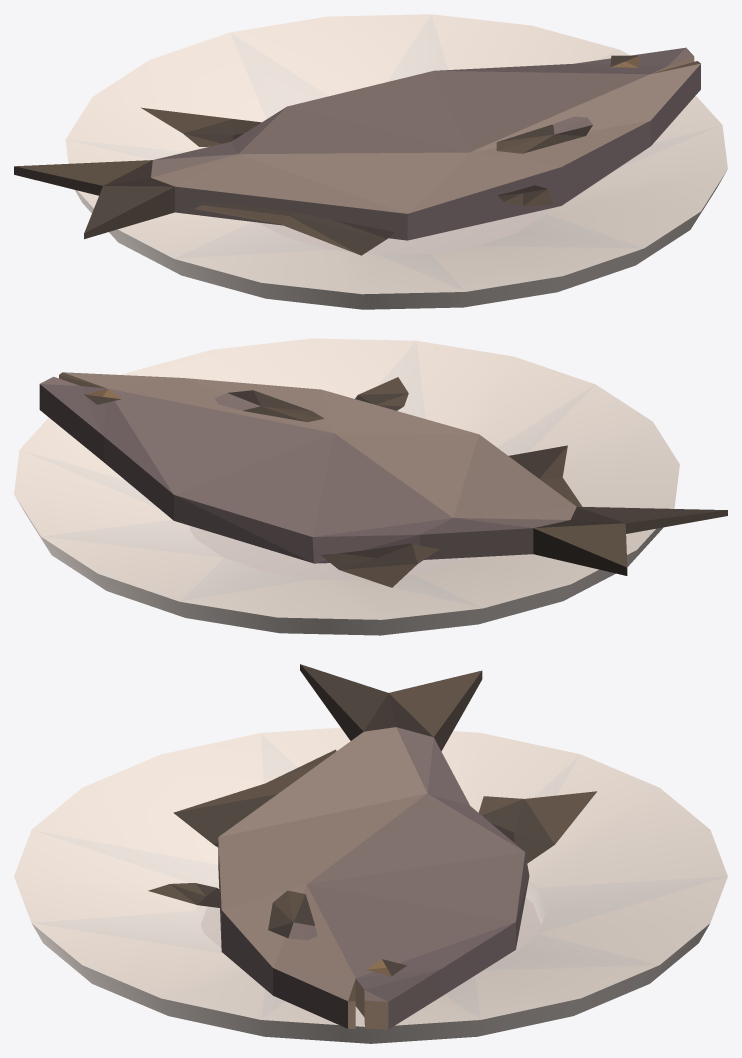
Rendered from bream_plate.fbx.
The picture shows the model from 3 angles, top to bottom: view 1: azimuth 30°, elevation 25°; view 2: azimuth 150°, elevation 25°; view 3: azimuth 270°, elevation 25°; orthographic projection. The views are drawn at different scales.
Parts seen in each view (by area): view 1: bream; view 2: bream; view 3: bream.
Boxes of the visible parts, <box> form: bream: <box>14,14,727,309</box>; bream: <box>14,338,727,635</box>; bream: <box>14,664,727,1043</box>.
Bounding box in the file's own units: 26.05 × 4 × 23.35.
